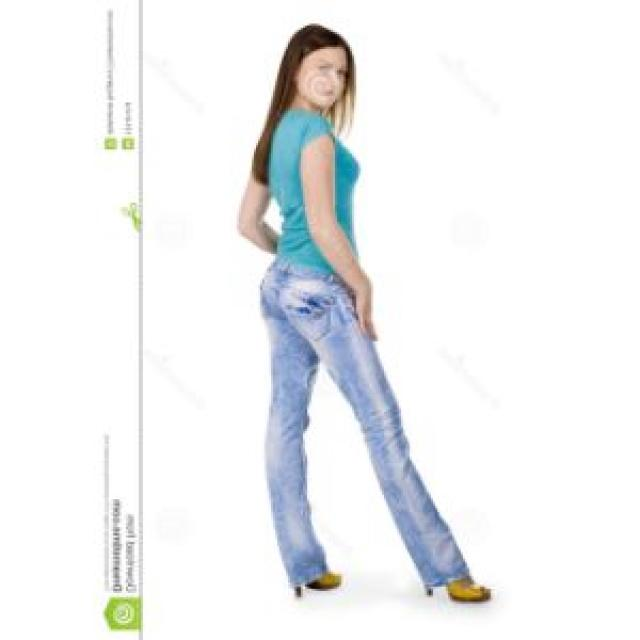adult: (220, 17, 450, 612)
